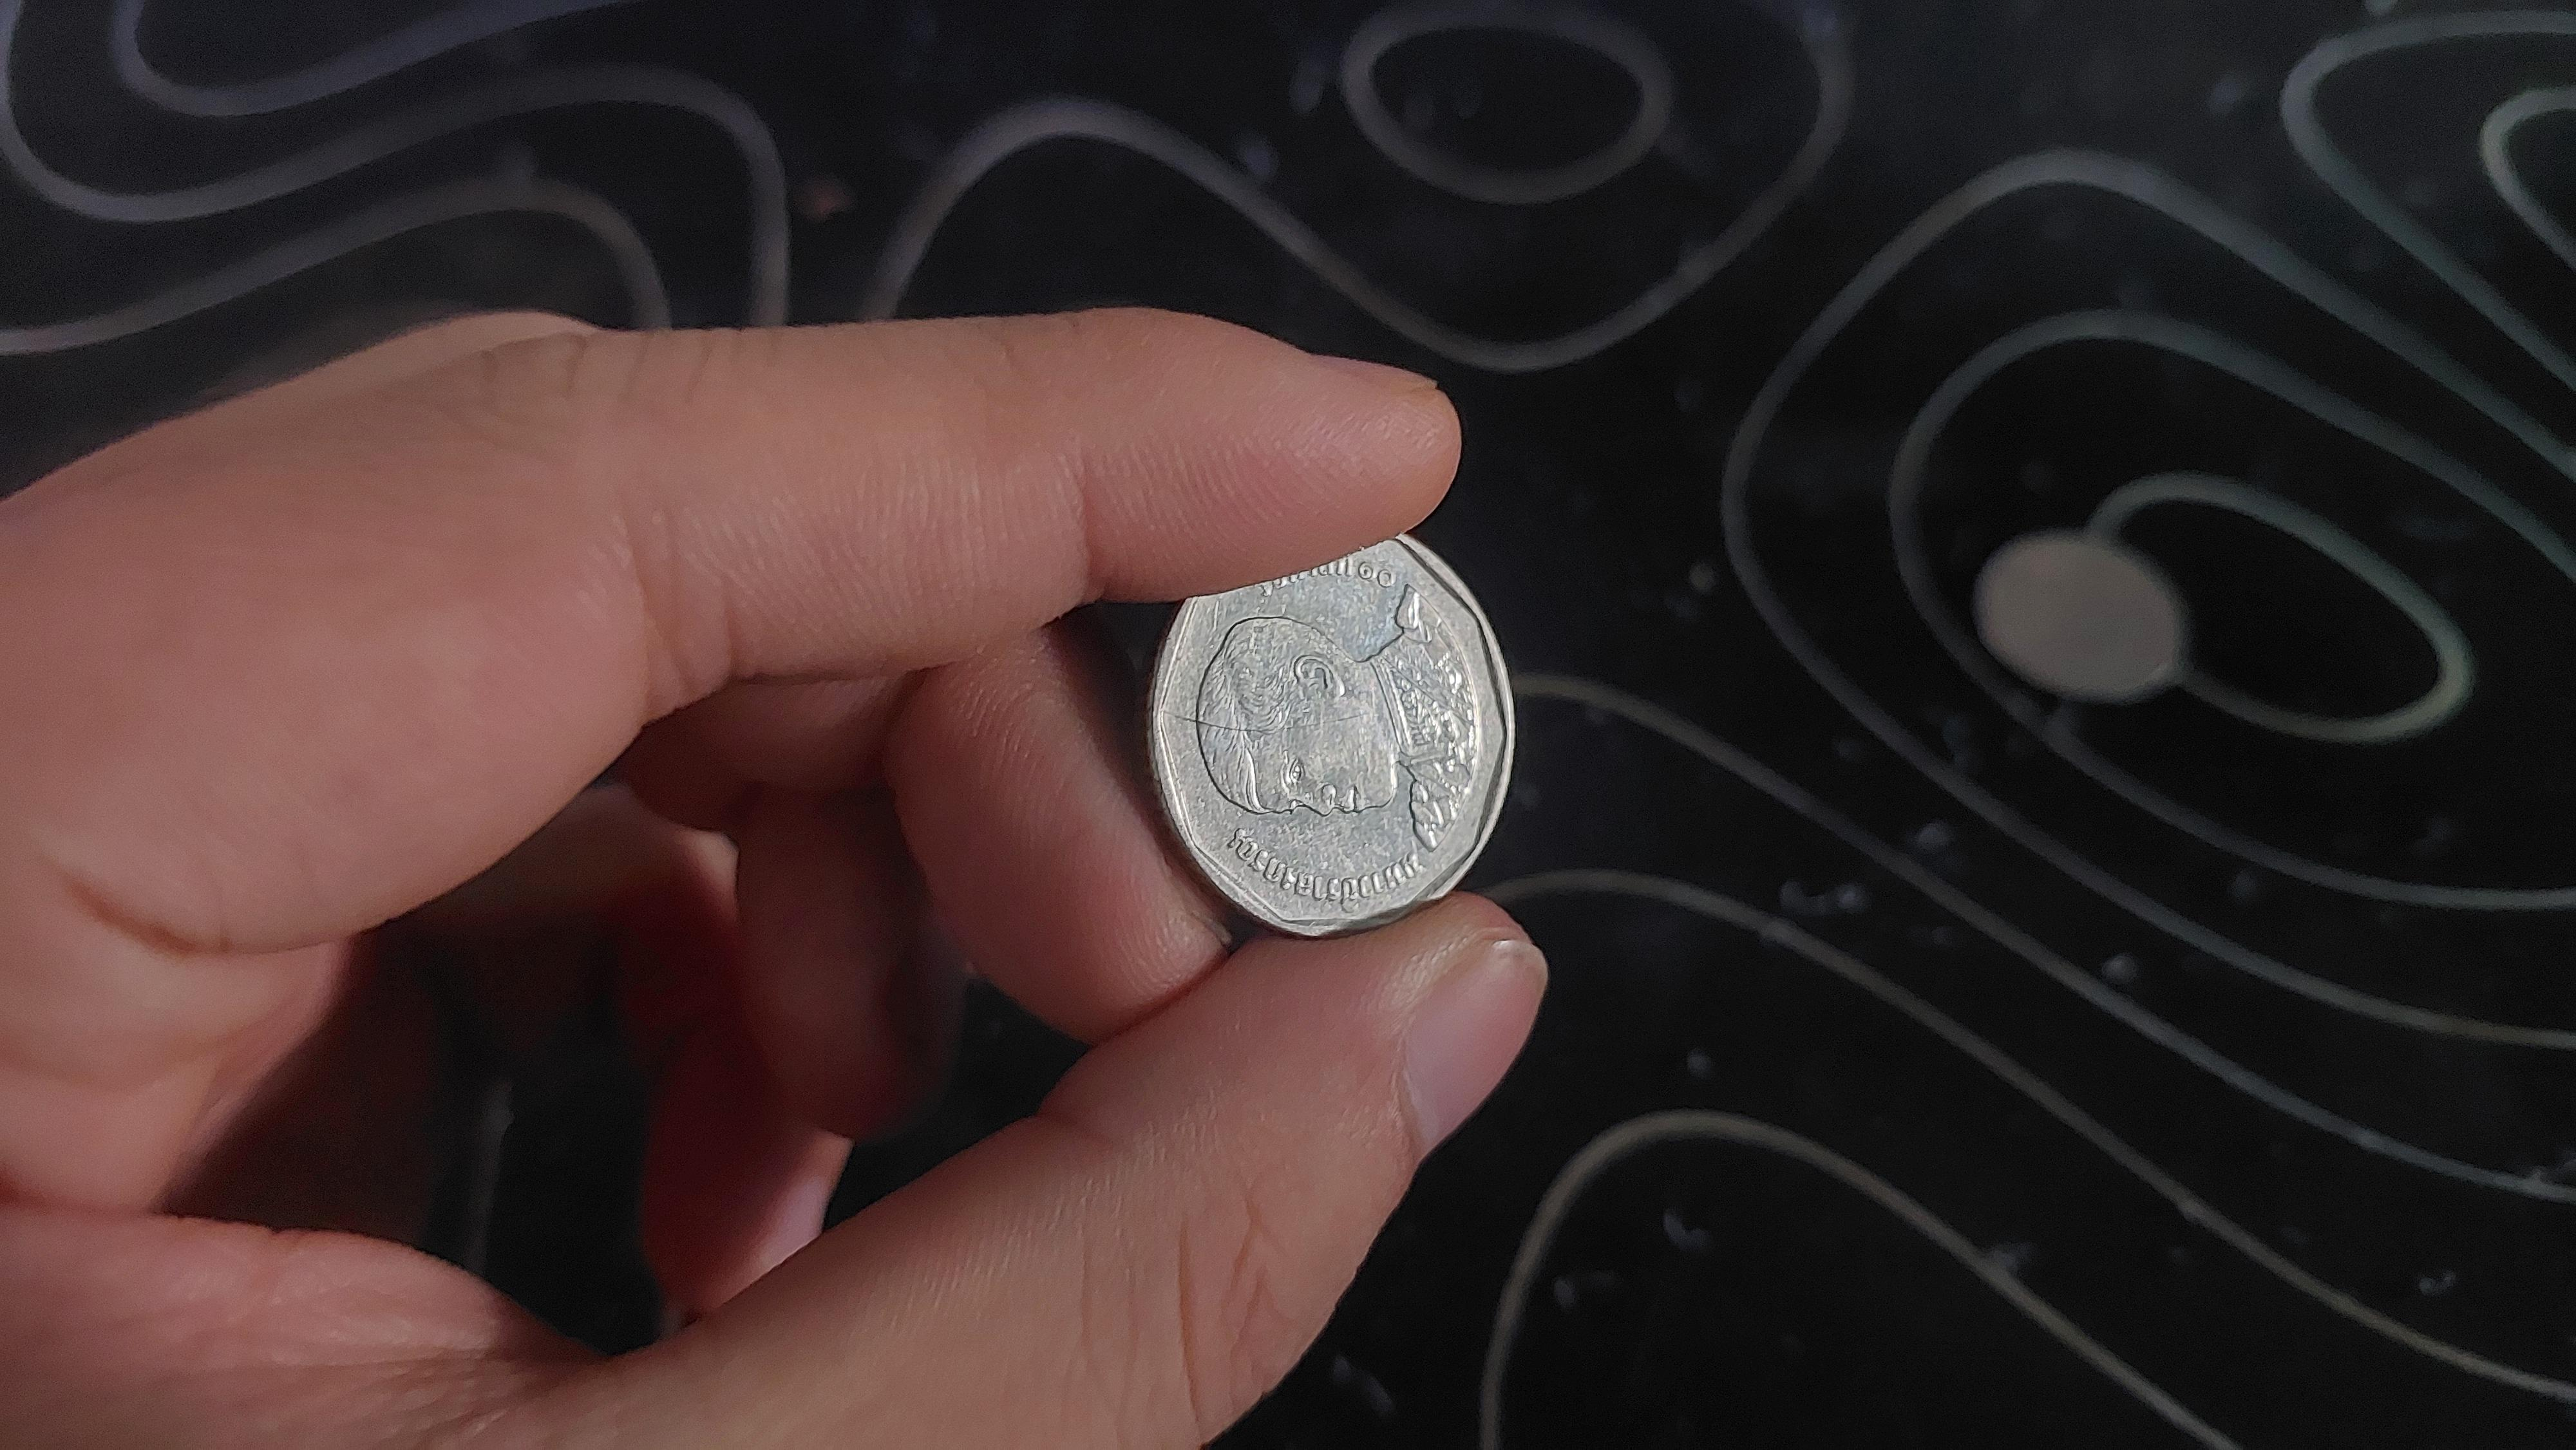5baht: (1139, 502, 1536, 957)
